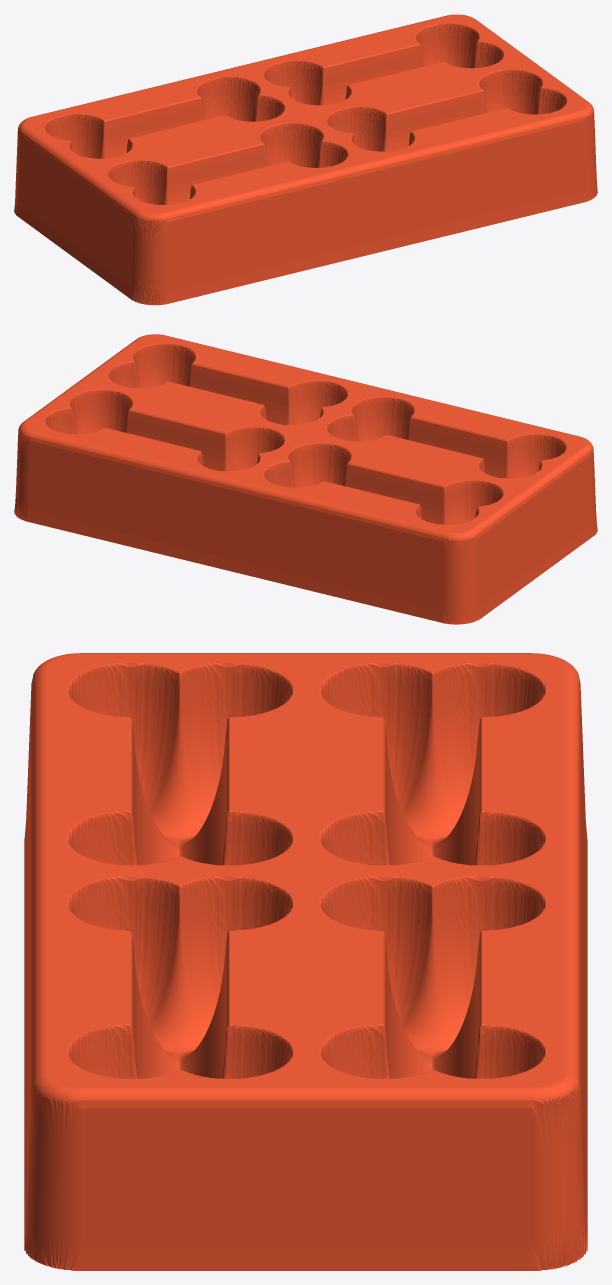
File: mold.glb
3 renders of one model, top to bottom at view 1: azimuth 30°, elevation 25°; view 2: azimuth 150°, elevation 25°; view 3: azimuth 270°, elevation 25°, orthographic. The views are drawn at different scales.
Parts seen in each view (by area): view 1: geometry_0; view 2: geometry_0; view 3: geometry_0.
Part boxes in pixels (<box>): geometry_0: <box>14,14,597,305</box>; geometry_0: <box>14,334,597,624</box>; geometry_0: <box>24,653,587,1270</box>.
Size of the model in its own units: 0.1721 by 0.031 by 0.0908.
